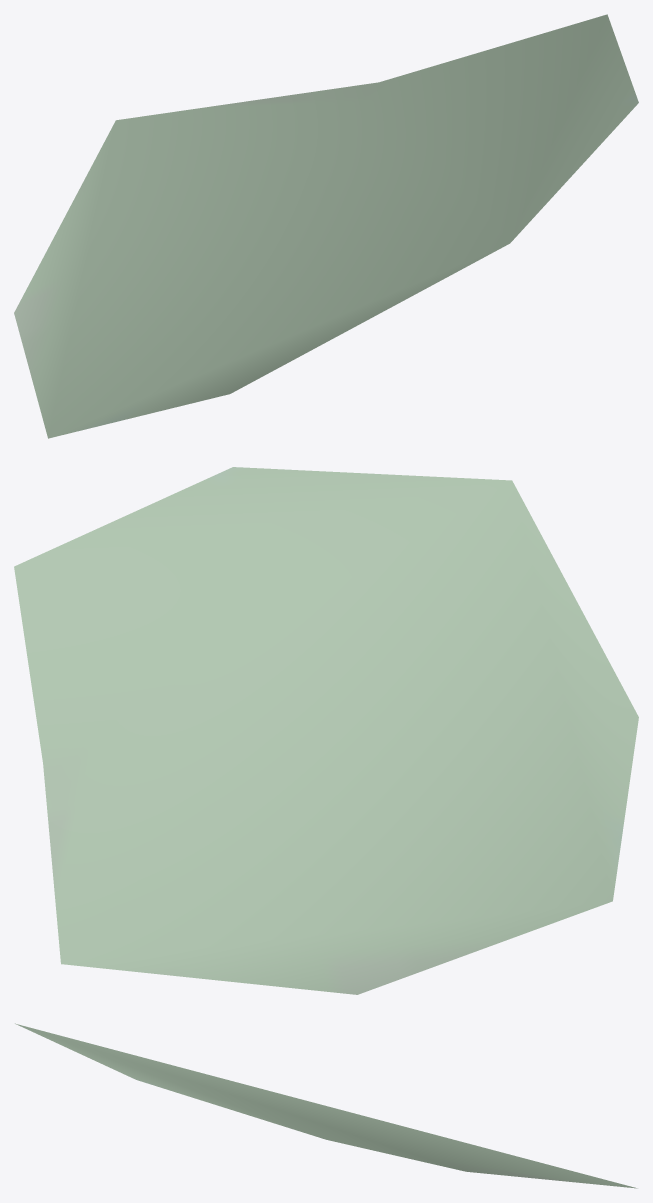
The model's file is TROLLHOLE02_HOLECAP110.fbx.
3 views of the same model, one above another, from view 1: azimuth 30°, elevation 25°; view 2: azimuth 150°, elevation 25°; view 3: azimuth 270°, elevation 25° (orthographic). The views are drawn at different scales.
Parts seen in each view (by area): view 1: TROLLHOLE02_HOLECAP110; view 2: TROLLHOLE02_HOLECAP110; view 3: TROLLHOLE02_HOLECAP110.
Boxes of the visible parts, x1,y1,x2,y2 form: TROLLHOLE02_HOLECAP110: [14, 14, 638, 438]; TROLLHOLE02_HOLECAP110: [14, 467, 638, 994]; TROLLHOLE02_HOLECAP110: [15, 1023, 637, 1188].
Bounding box in the file's own units: 16880 × 7953 × 21369.
Materials: 1 (1 with a texture image).
